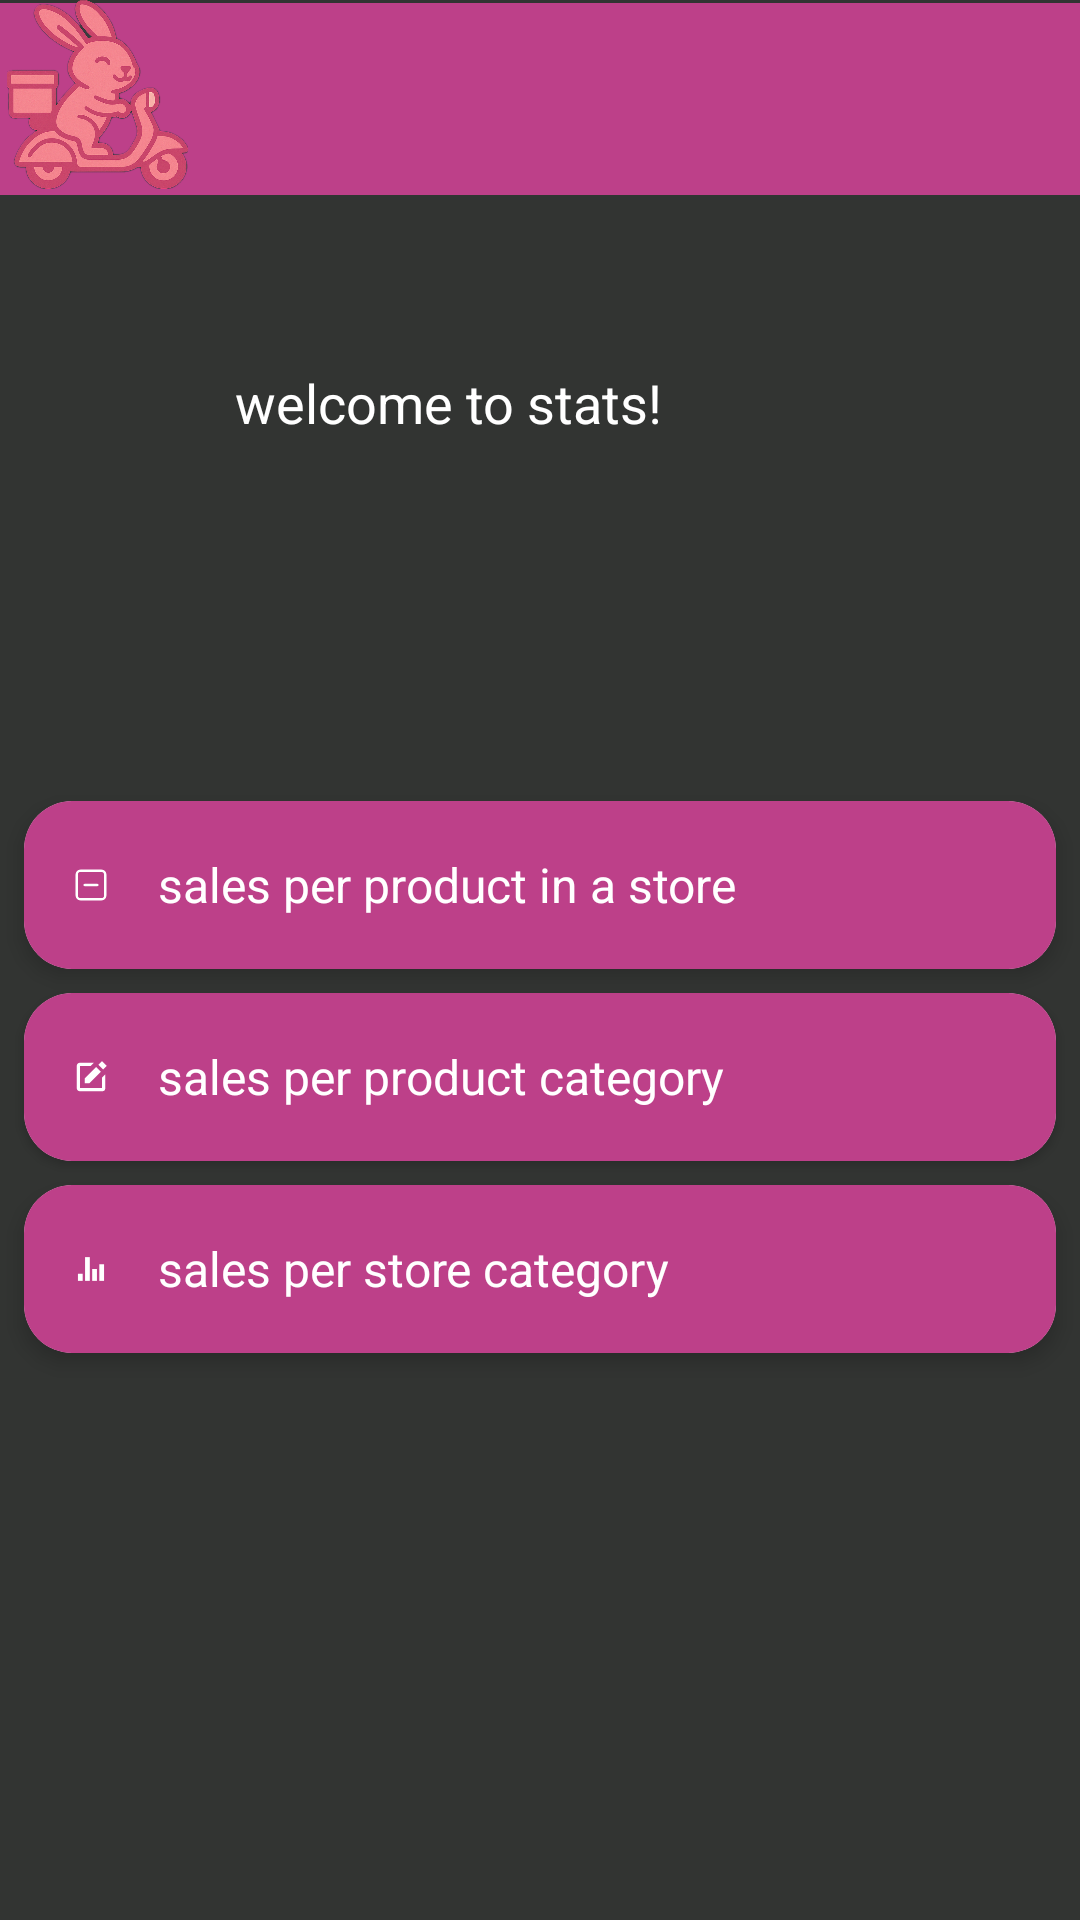

Named icons in this screenshot (1080x1920) and their bounding boxes, detection(x1, y1, x2, y2):
edit: detection(76, 1061, 107, 1092)
ionstatsbars: detection(78, 1257, 104, 1281)
remove: detection(75, 869, 107, 901)
